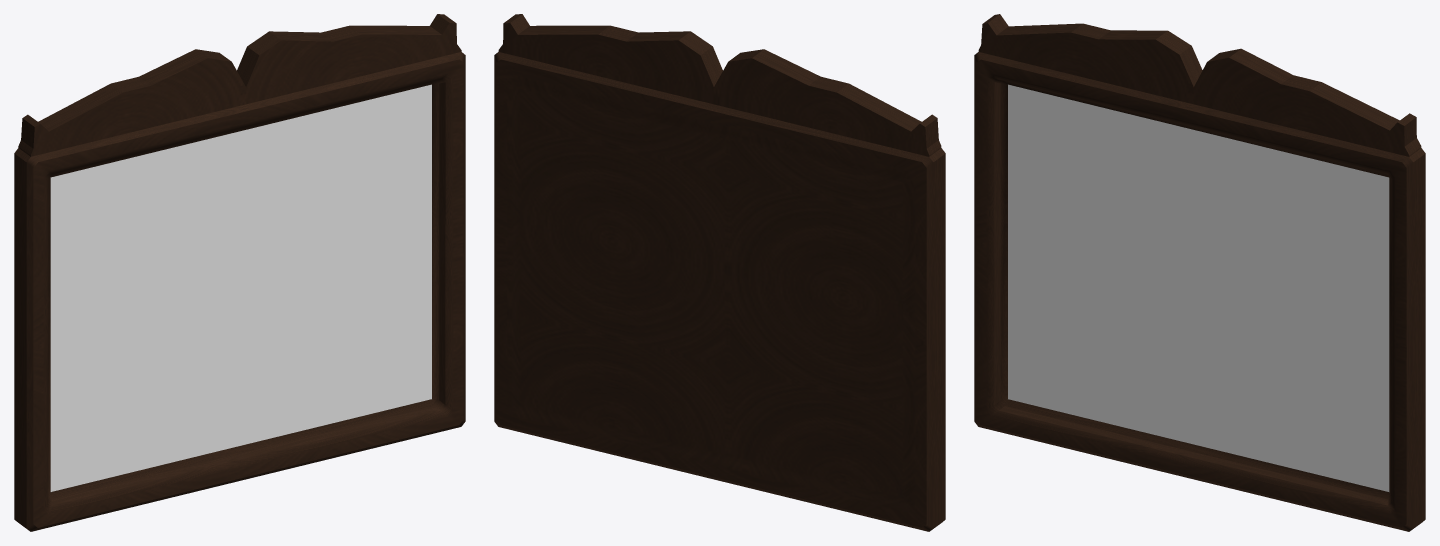
File: bulletin_board.fbx
3 views of the same model, side by side, from view 1: azimuth 30°, elevation 25°; view 2: azimuth 150°, elevation 25°; view 3: azimuth 330°, elevation 25° (orthographic).
Visible parts, largest first — view 1: pCube1; view 2: pCube1; view 3: pCube1.
Part boxes in pixels (bbox=[...]): pCube1: bbox=[14, 14, 465, 531]; pCube1: bbox=[494, 14, 945, 531]; pCube1: bbox=[974, 14, 1425, 531].
Bounding box in the file's own units: 6.45 × 6.04 × 0.4378.
